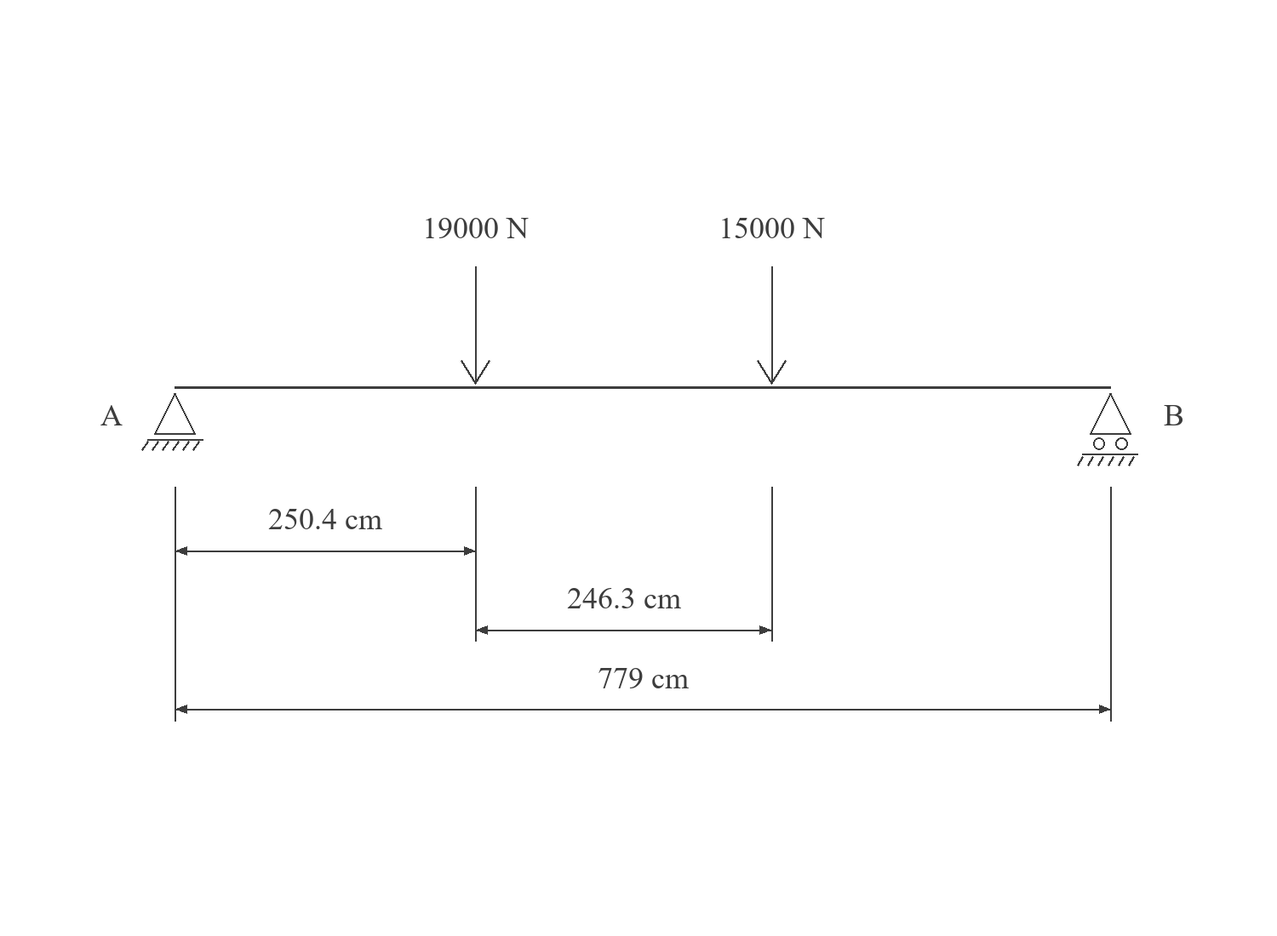pin_support: (141, 393, 203, 451)
point_load: (757, 266, 787, 385), (461, 266, 490, 385)
roller_support: (1077, 393, 1138, 466)
